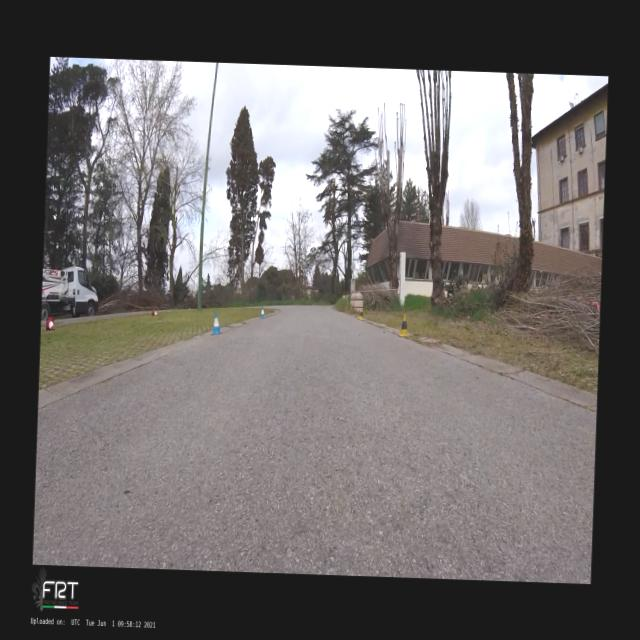blue_cone: (210, 311, 223, 335), (259, 306, 265, 318)
orange_cone: (45, 315, 55, 330), (151, 308, 157, 316)
yellow_cone: (397, 314, 409, 336), (358, 308, 362, 320)
